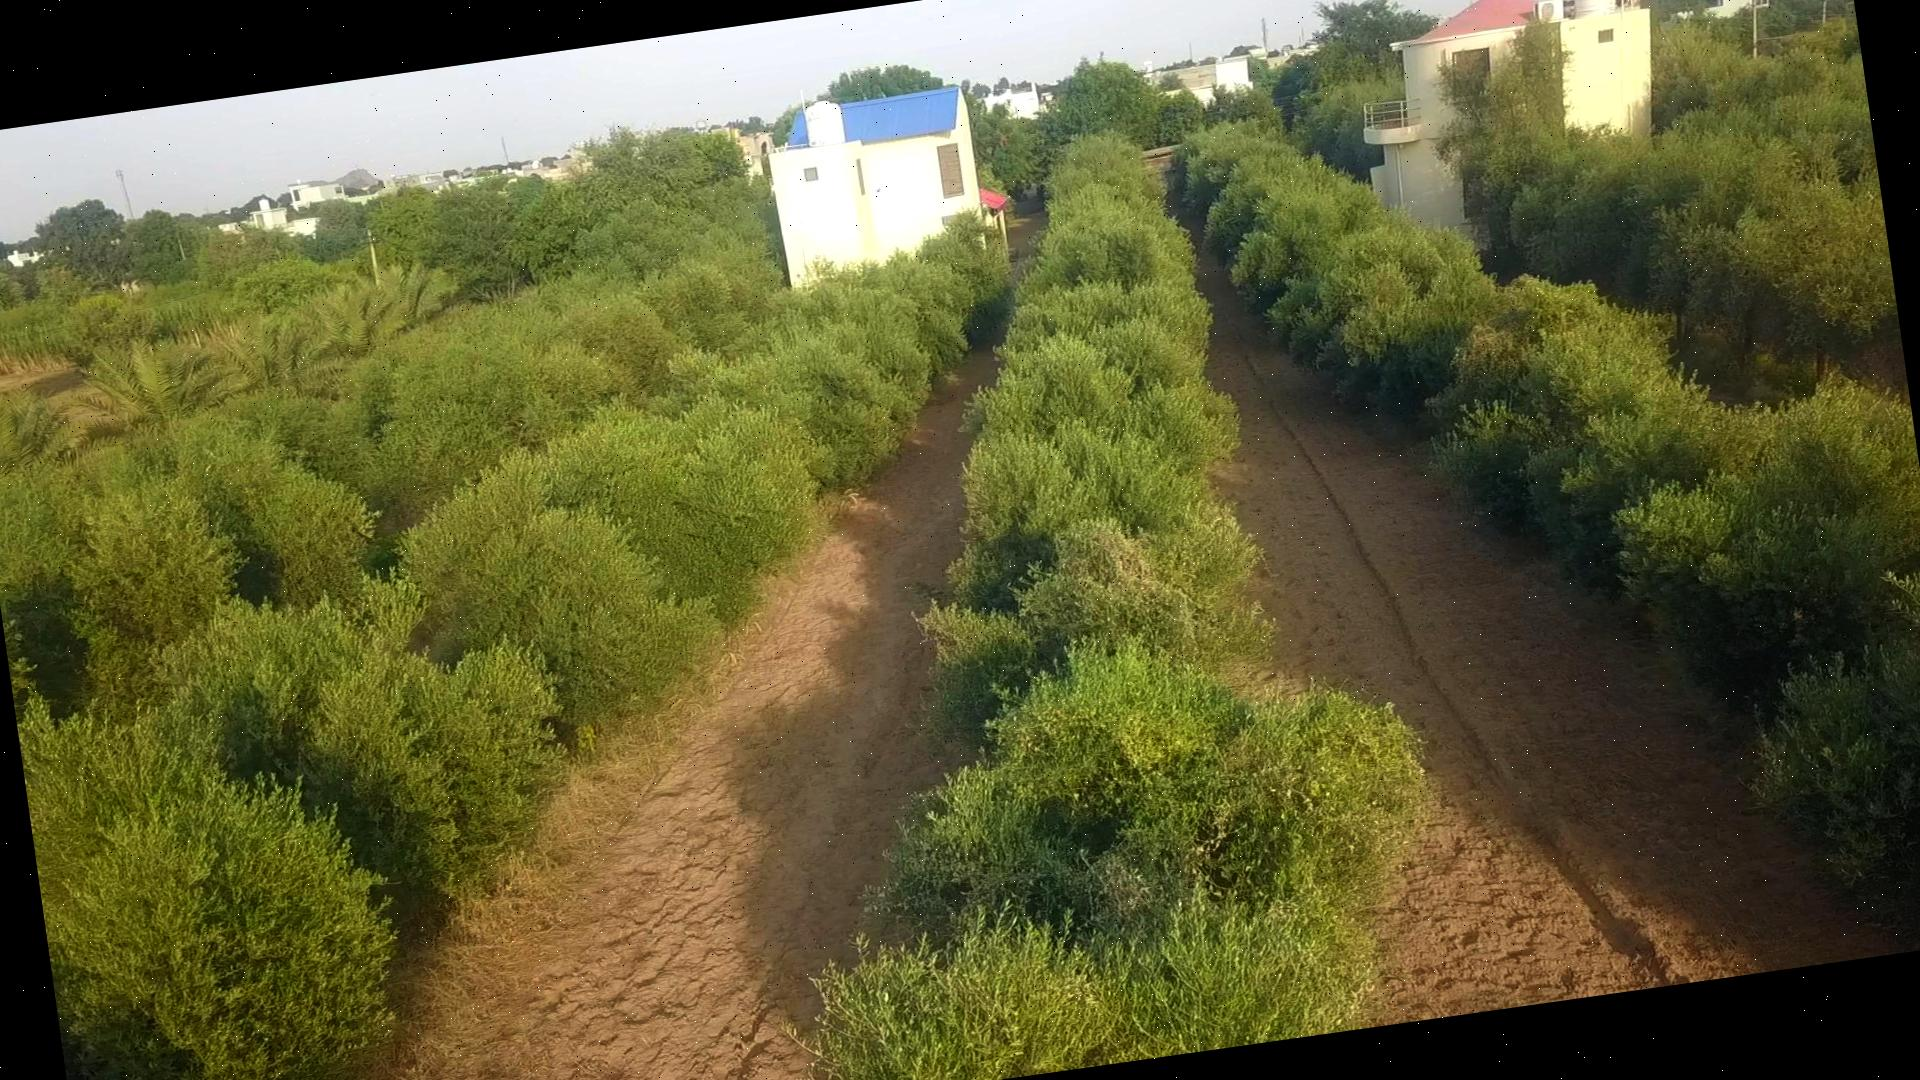canopy: (15, 229, 1005, 1080), (816, 136, 1422, 1080), (1178, 123, 1920, 878), (0, 255, 779, 709)
road: (1200, 256, 1895, 1023), (407, 351, 996, 1080)
